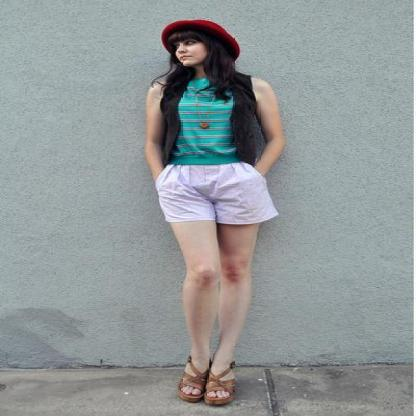hat: (187, 20, 228, 35)
jacket: (154, 91, 258, 170)
shirt: (172, 78, 245, 165)
shoe: (177, 358, 247, 407)
shorts: (155, 163, 278, 224)
